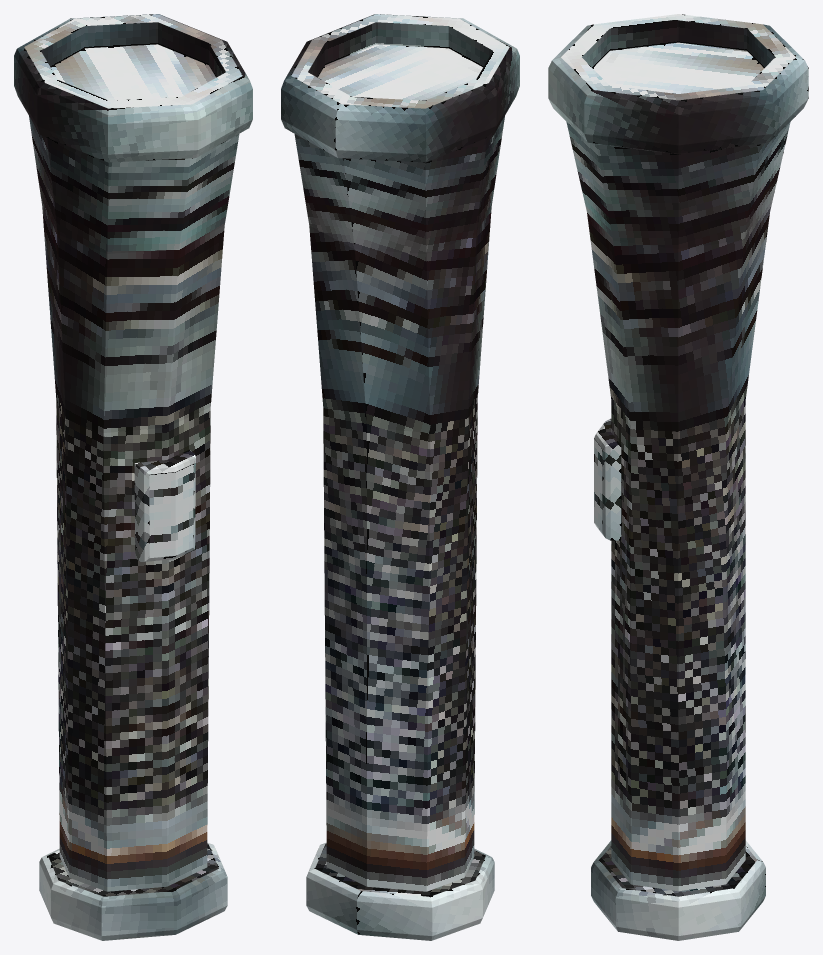
File: flashlight.glb
The picture shows the model from 3 angles, left to right: view 1: azimuth 30°, elevation 25°; view 2: azimuth 150°, elevation 25°; view 3: azimuth 270°, elevation 25°; orthographic projection.
Visible parts, largest first — view 1: flashlight; view 2: flashlight; view 3: flashlight.
Boxes of the visible parts, x1,y1,x2,y2 form: flashlight: (14,14,252,940); flashlight: (281,14,519,940); flashlight: (548,14,808,940).
Bounding box in the file's own units: 0.1689 × 0.7097 × 0.1976.
1 material, 1 textured.
